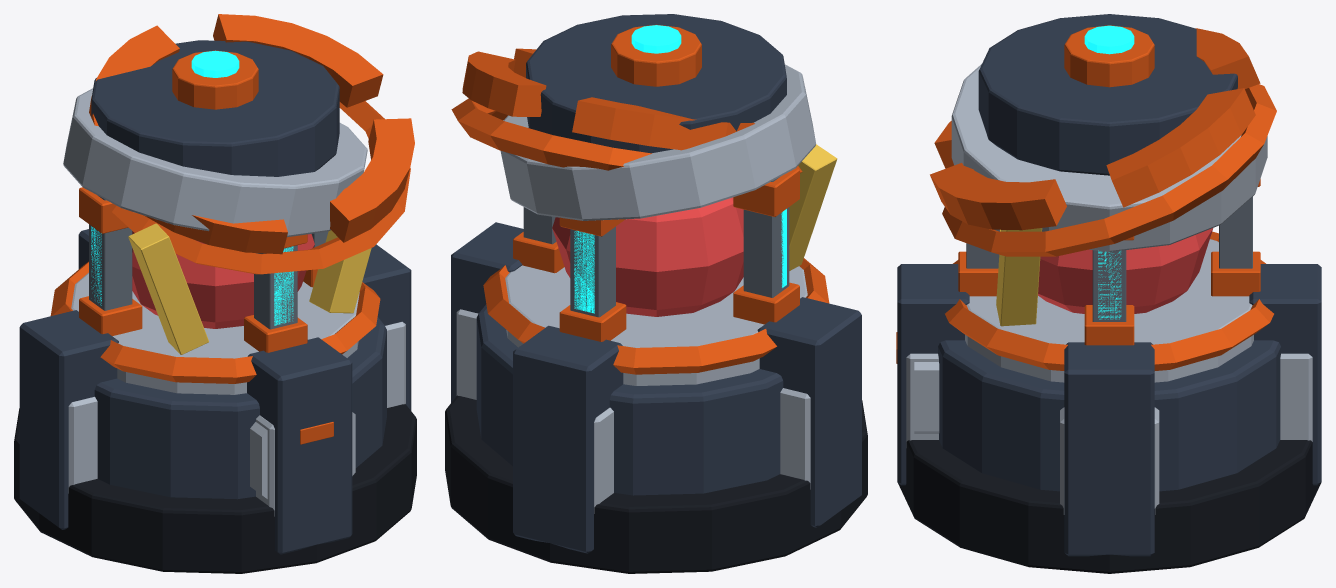
The model's file is objective_core__critical.glb.
The picture shows the model from 3 angles, left to right: view 1: azimuth 30°, elevation 25°; view 2: azimuth 150°, elevation 25°; view 3: azimuth 270°, elevation 25°; orthographic projection. The views are drawn at different scales.
Visible parts, largest first — view 1: ROLE_primary, ROLE_accent, ROLE_secondary, ROLE_rubber, ROLE_warning, ROLE_bareMetal, ROLE_critical, ROLE_interaction; view 2: ROLE_primary, ROLE_secondary, ROLE_accent, ROLE_rubber, ROLE_critical, ROLE_bareMetal, ROLE_interaction, ROLE_warning; view 3: ROLE_primary, ROLE_accent, ROLE_secondary, ROLE_rubber, ROLE_critical, ROLE_bareMetal, ROLE_warning, ROLE_interaction.
Boxes of the visible parts, left/top/right/bottom form: ROLE_primary: left=19, top=40, right=411, bottom=554; ROLE_accent: left=50, top=14, right=414, bottom=444; ROLE_secondary: left=63, top=88, right=405, bottom=516; ROLE_rubber: left=14, top=404, right=416, bottom=573; ROLE_warning: left=128, top=223, right=371, bottom=354; ROLE_bareMetal: left=89, top=196, right=328, bottom=329; ROLE_critical: left=132, top=231, right=314, bottom=328; ROLE_interaction: left=91, top=50, right=293, bottom=325; ROLE_primary: left=451, top=14, right=861, bottom=553; ROLE_secondary: left=456, top=64, right=815, bottom=513; ROLE_accent: left=451, top=24, right=829, bottom=374; ROLE_rubber: left=445, top=395, right=867, bottom=573; ROLE_critical: left=552, top=197, right=743, bottom=316; ROLE_bareMetal: left=523, top=177, right=789, bottom=317; ROLE_interaction: left=574, top=25, right=786, bottom=313; ROLE_warning: left=789, top=144, right=837, bottom=270; ROLE_primary: left=897, top=14, right=1321, bottom=556; ROLE_accent: left=896, top=25, right=1276, bottom=370; ROLE_secondary: left=906, top=64, right=1312, bottom=514; ROLE_rubber: left=897, top=440, right=1320, bottom=573; ROLE_critical: left=1038, top=228, right=1213, bottom=313; ROLE_bareMetal: left=966, top=196, right=1252, bottom=321; ROLE_warning: left=996, top=228, right=1042, bottom=326; ROLE_interaction: left=1084, top=25, right=1134, bottom=319.
Bounding box in the file's own units: 6 × 7 × 6.
